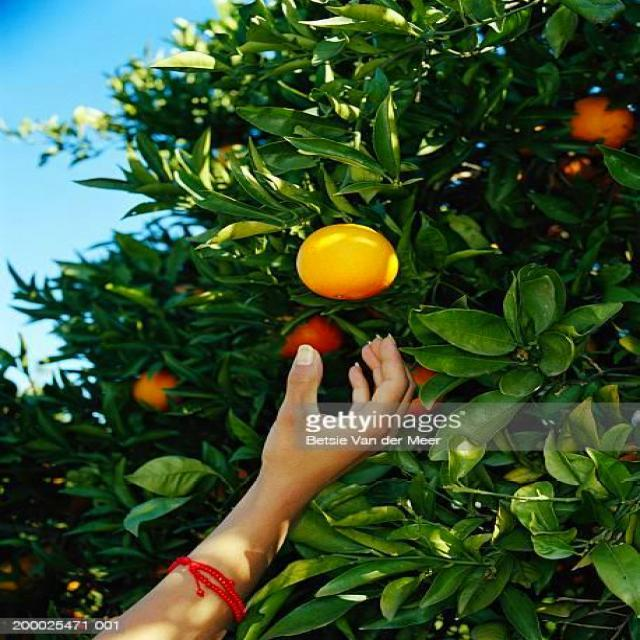Jeruk Sudah Matang: (295, 225, 400, 302), (572, 93, 634, 148), (279, 316, 345, 361), (131, 368, 179, 413)
